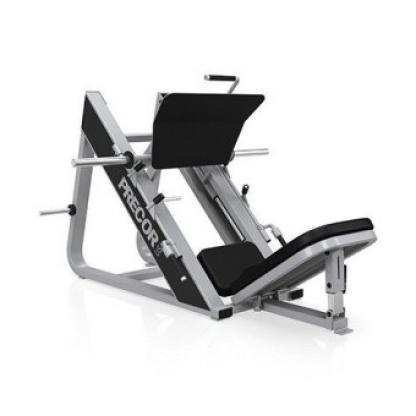leg press: (36, 70, 375, 373)
